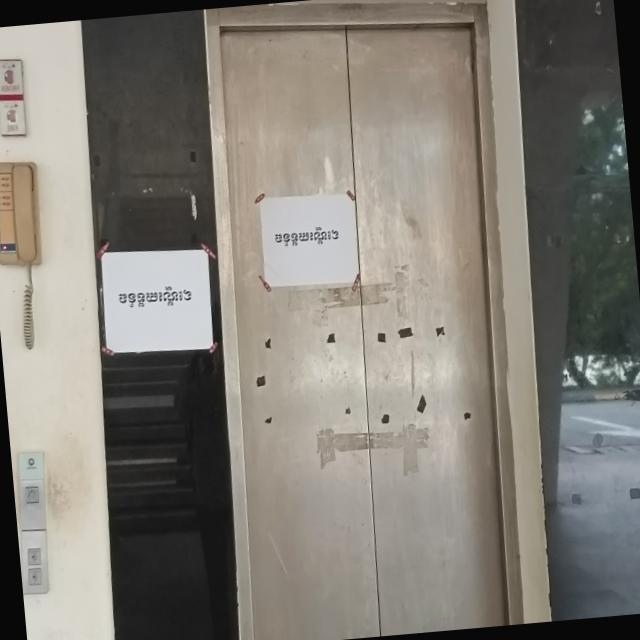Yolov11kh: (112, 280, 198, 312), (270, 222, 343, 251)
